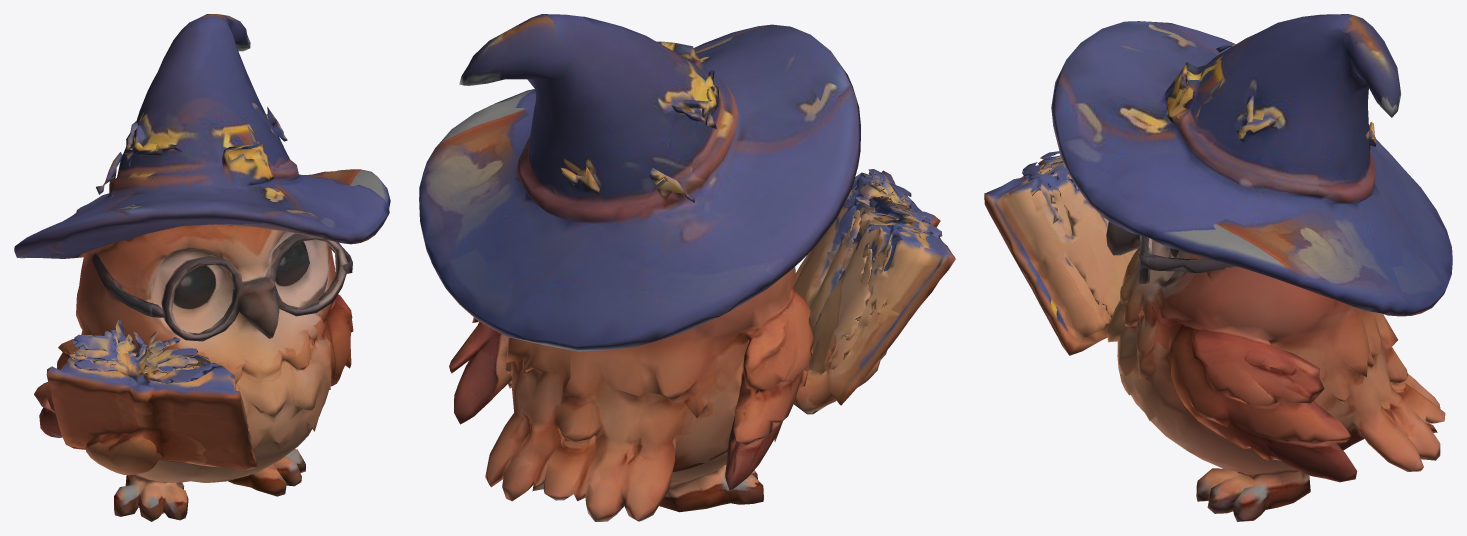
Rendered from owl.glb.
3 renders of one model, left to right at view 1: azimuth 30°, elevation 25°; view 2: azimuth 150°, elevation 25°; view 3: azimuth 270°, elevation 25°, orthographic. The views are drawn at different scales.
Bounding box in the file's own units: 0.9491 × 1 × 0.8841.
Materials: 1 (1 with a texture image).
